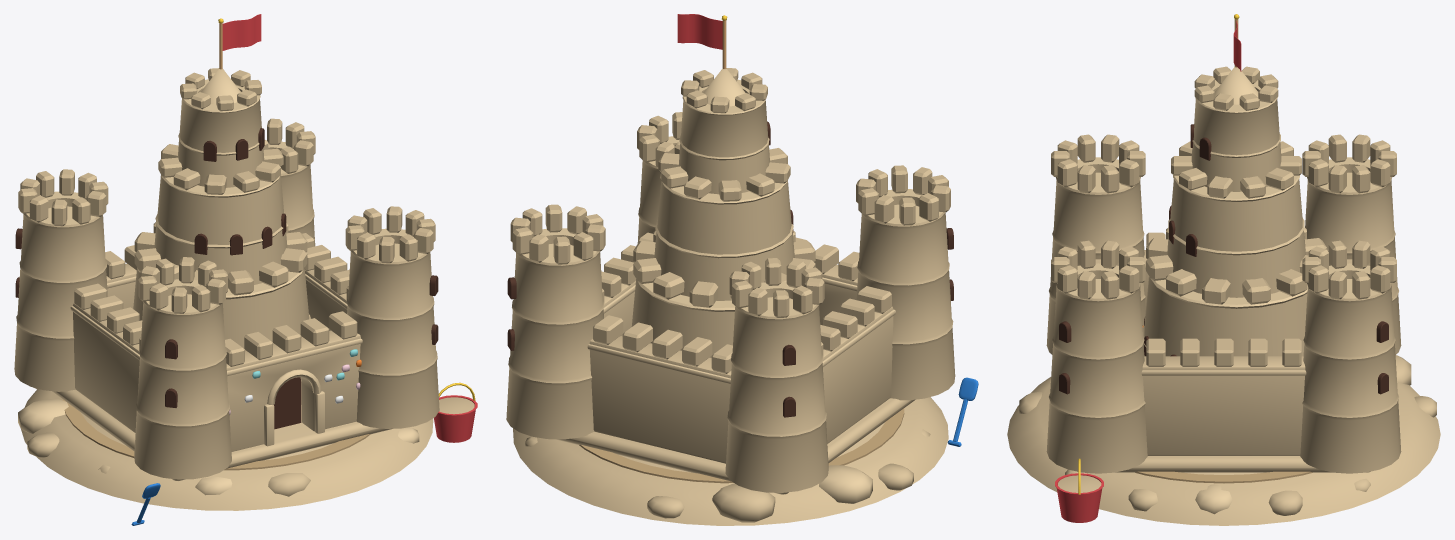
File: castelo_areia_gigante.glb
3 renders of one model, left to right at view 1: azimuth 30°, elevation 25°; view 2: azimuth 150°, elevation 25°; view 3: azimuth 270°, elevation 25°, orthographic. The views are drawn at different scales.
Parts seen in each view (by area): view 1: castelo_areia_gigante, bandeira; view 2: castelo_areia_gigante, bandeira; view 3: castelo_areia_gigante.
Boxes of the visible parts, left/top/right/bottom form: castelo_areia_gigante: left=14, top=18, right=477, bottom=525; bandeira: left=222, top=14, right=261, bottom=50; castelo_areia_gigante: left=506, top=15, right=978, bottom=525; bandeira: left=677, top=14, right=722, bottom=49; castelo_areia_gigante: left=1007, top=14, right=1440, bottom=525.
Size of the model in its own units: 14.03 by 15.48 by 13.8.
1 material, 1 textured.
